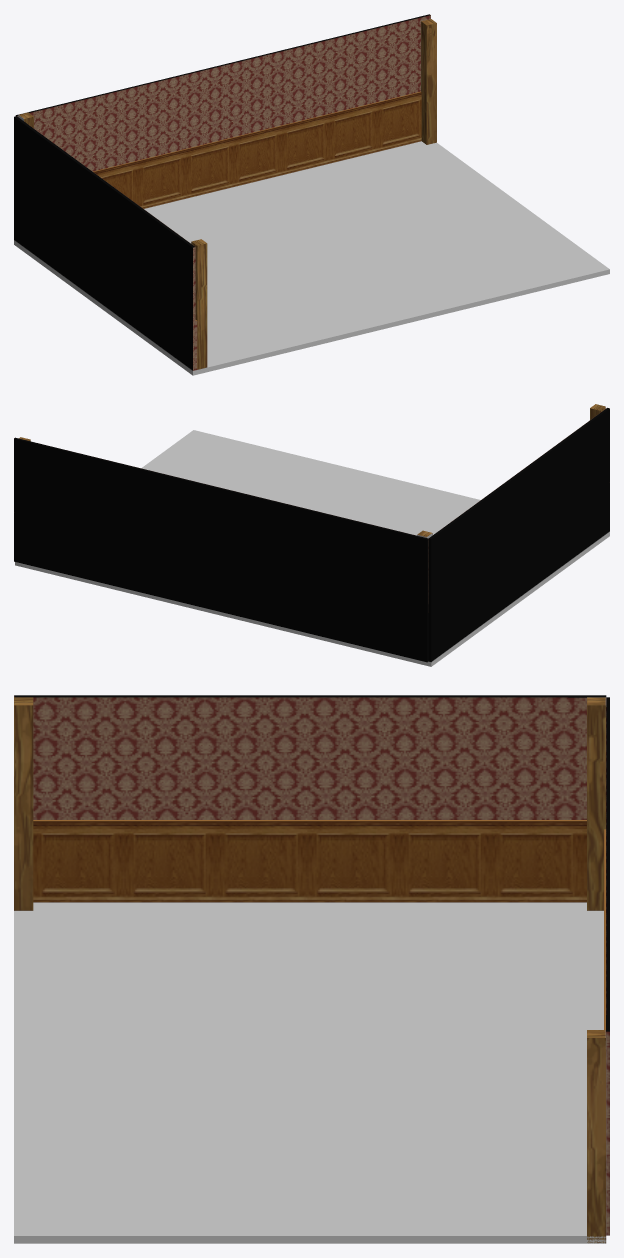
The model's file is PR_Room_T.fbx.
The picture shows the model from 3 angles, top to bottom: view 1: azimuth 30°, elevation 25°; view 2: azimuth 150°, elevation 25°; view 3: azimuth 270°, elevation 25°; orthographic projection. The views are drawn at different scales.
Parts seen in each view (by area): view 1: PR_Room_01:PR_Room; view 2: PR_Room_01:PR_Room; view 3: PR_Room_01:PR_Room.
Boxes of the visible parts, x1,y1,x2,y2 form: PR_Room_01:PR_Room: (14, 14, 609, 375); PR_Room_01:PR_Room: (14, 404, 609, 666); PR_Room_01:PR_Room: (14, 695, 609, 1243).
Bounding box in the file's own units: 41.46 × 12.24 × 31.02.
